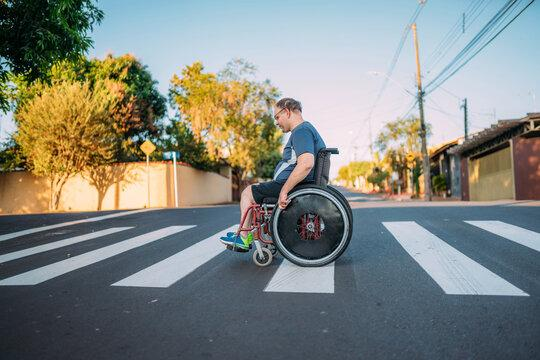wheelchair: (220, 98, 354, 267)
